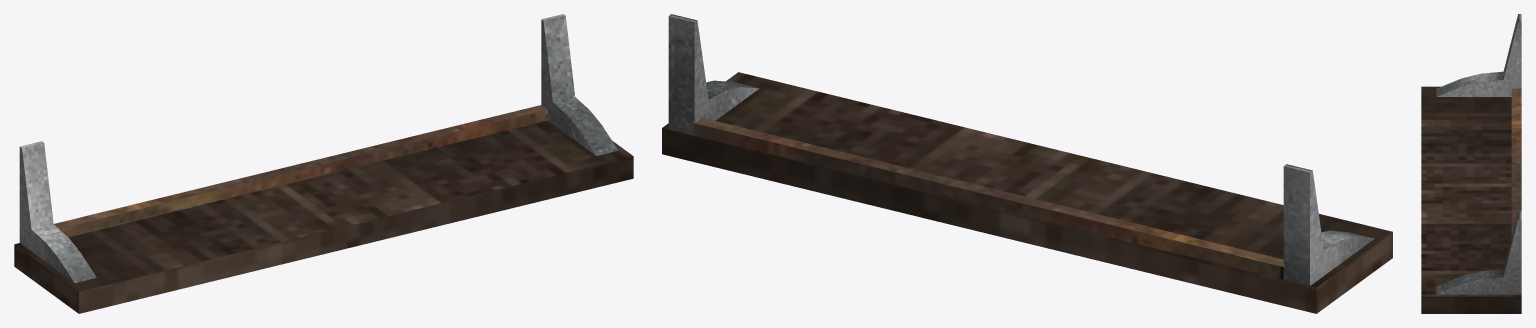
The model's file is Estantería.fbx.
The picture shows the model from 3 angles, left to right: view 1: azimuth 30°, elevation 25°; view 2: azimuth 150°, elevation 25°; view 3: azimuth 270°, elevation 25°; orthographic projection. The views are drawn at different scales.
Parts seen in each view (by area): view 1: pCube21; view 2: pCube21; view 3: pCube21.
Boxes of the visible parts, x1,y1,x2,y2 form: pCube21: (14,14,633,313); pCube21: (662,14,1392,313); pCube21: (1421,14,1521,313).
Bounding box in the file's own units: 119 × 24.3 × 24.06.
